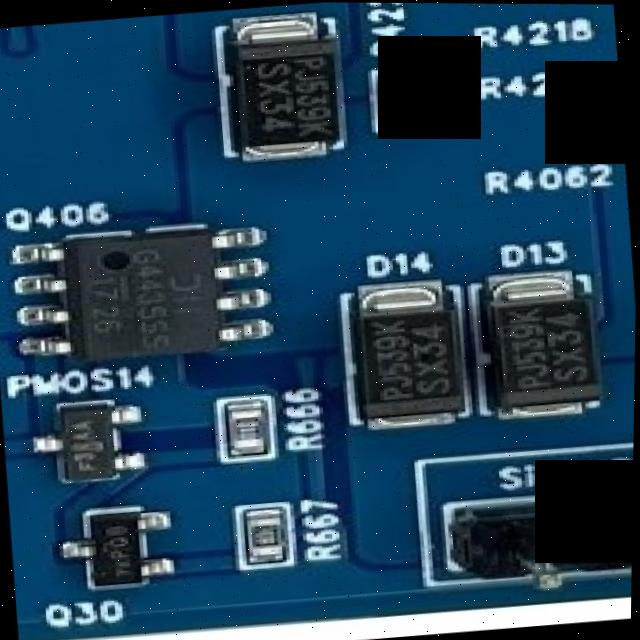4439: (39, 394, 153, 492), (62, 501, 180, 591)
IC: (25, 220, 262, 370)
connector -5v-: (445, 492, 634, 594)
diode -D1-: (207, 1, 362, 160), (481, 275, 612, 420), (334, 288, 457, 416)
resistor IR1: (370, 63, 429, 124), (221, 395, 273, 463), (240, 506, 293, 562)
